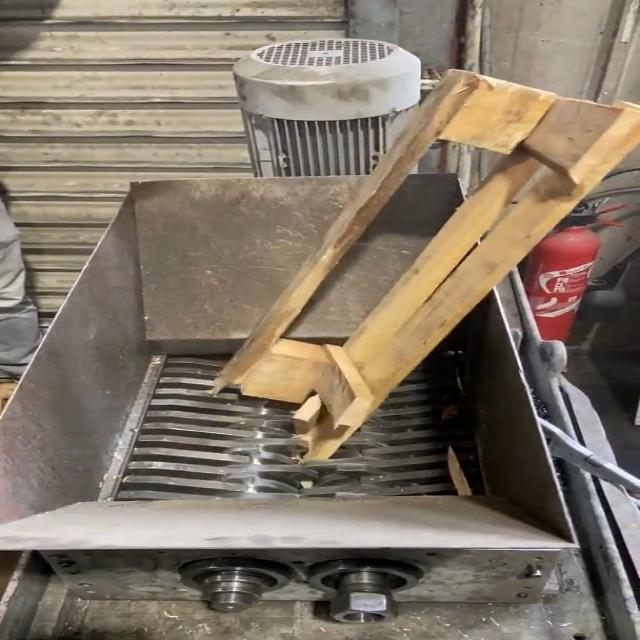Broyeur: (101, 342, 480, 508)
Palette: (217, 62, 640, 456)
